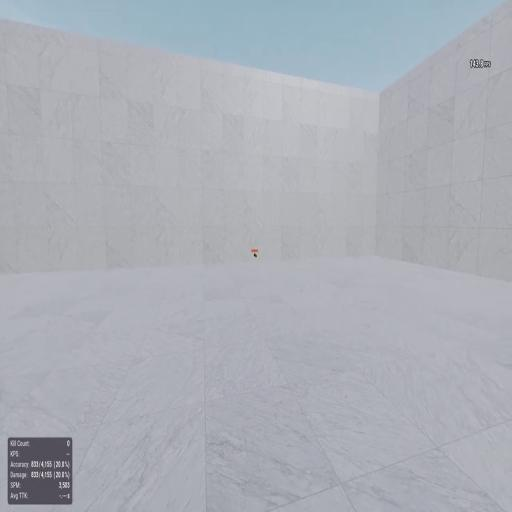Crosshair: (255, 254, 257, 258)
Target: (253, 253, 256, 257)
